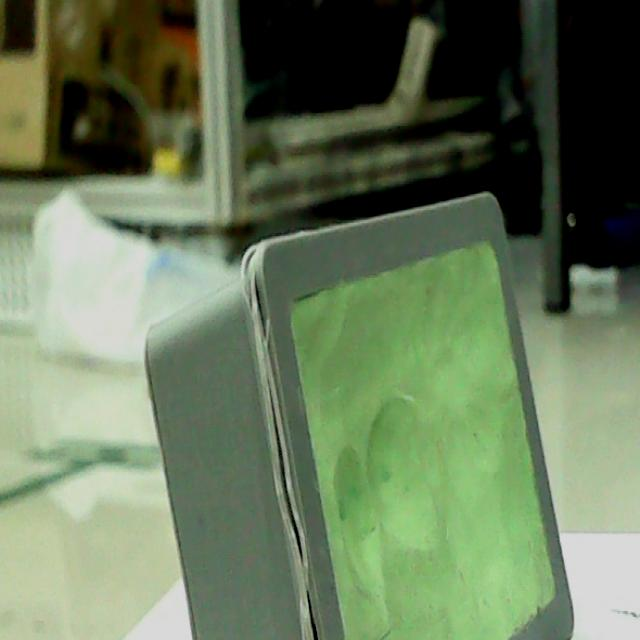block: (148, 189, 570, 640)
